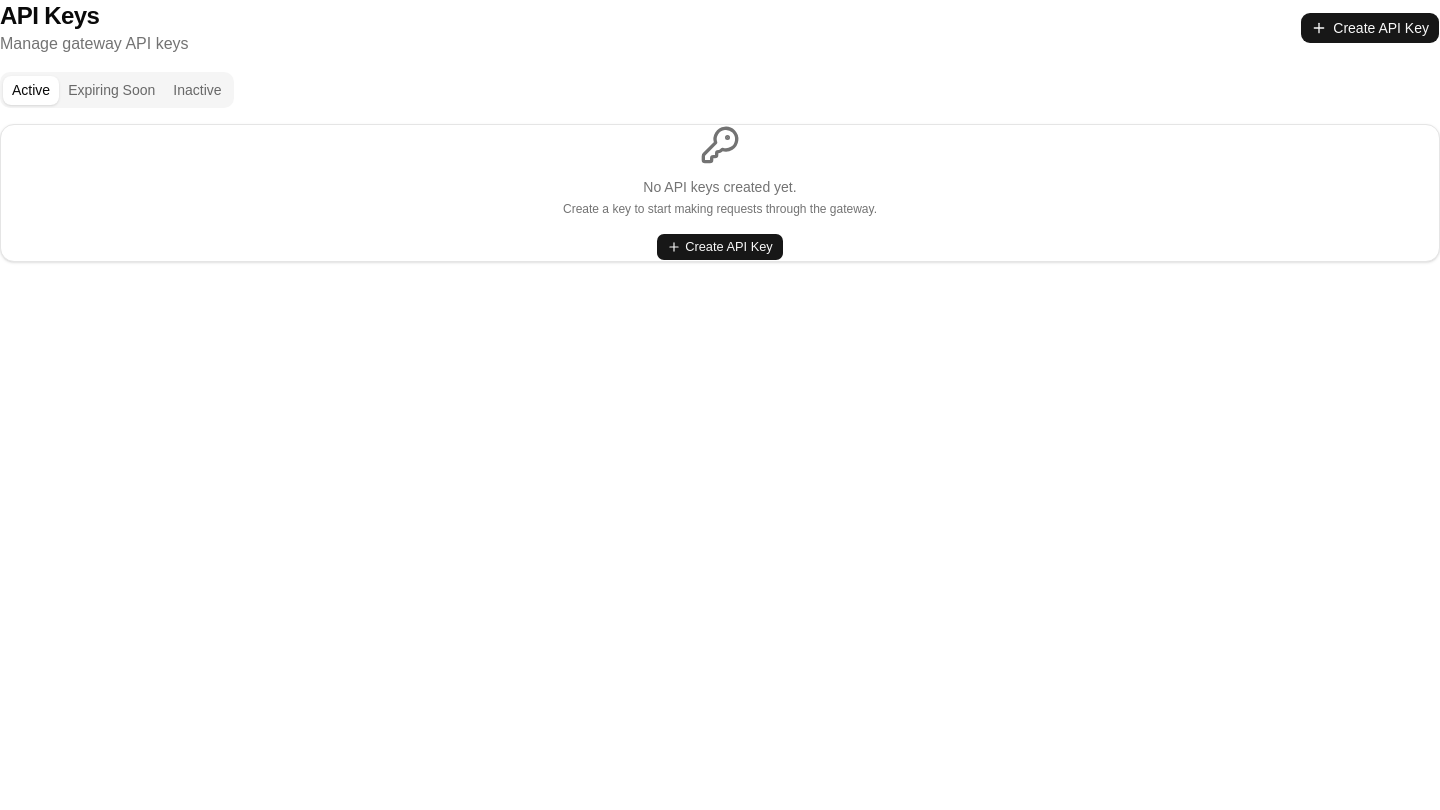
Scenario: ApiKeysPage › names why a key cannot be added to Lite when its owner may not use the gateway
The width and height of the screenshot is (1440, 810).
Click the button "Create API Key" in the row of "Manage gateway API keys" at (1370, 28), box [1300, 12, 1439, 44]
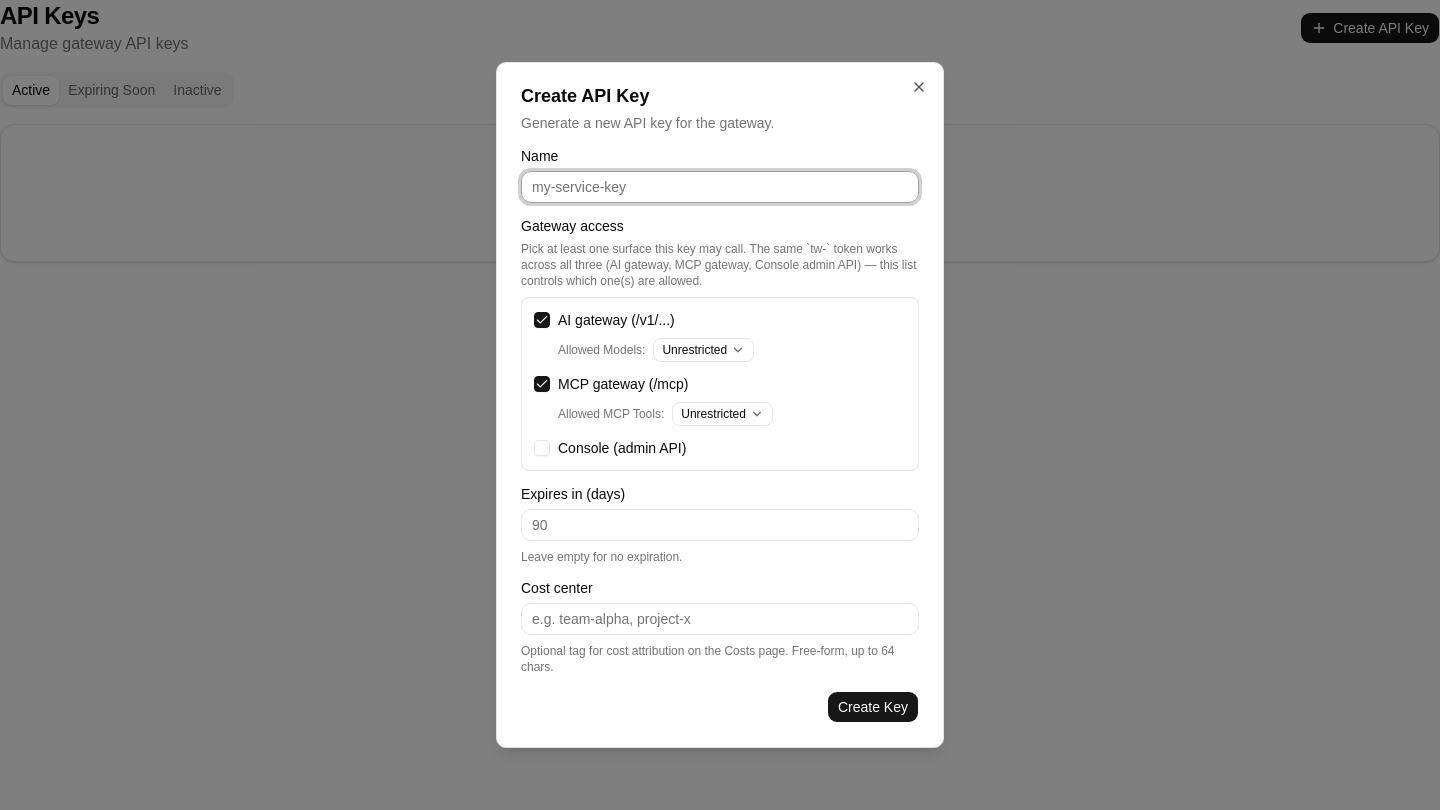
Type "laptop" into the field labelled "Name" at (720, 187), box [521, 171, 919, 203]
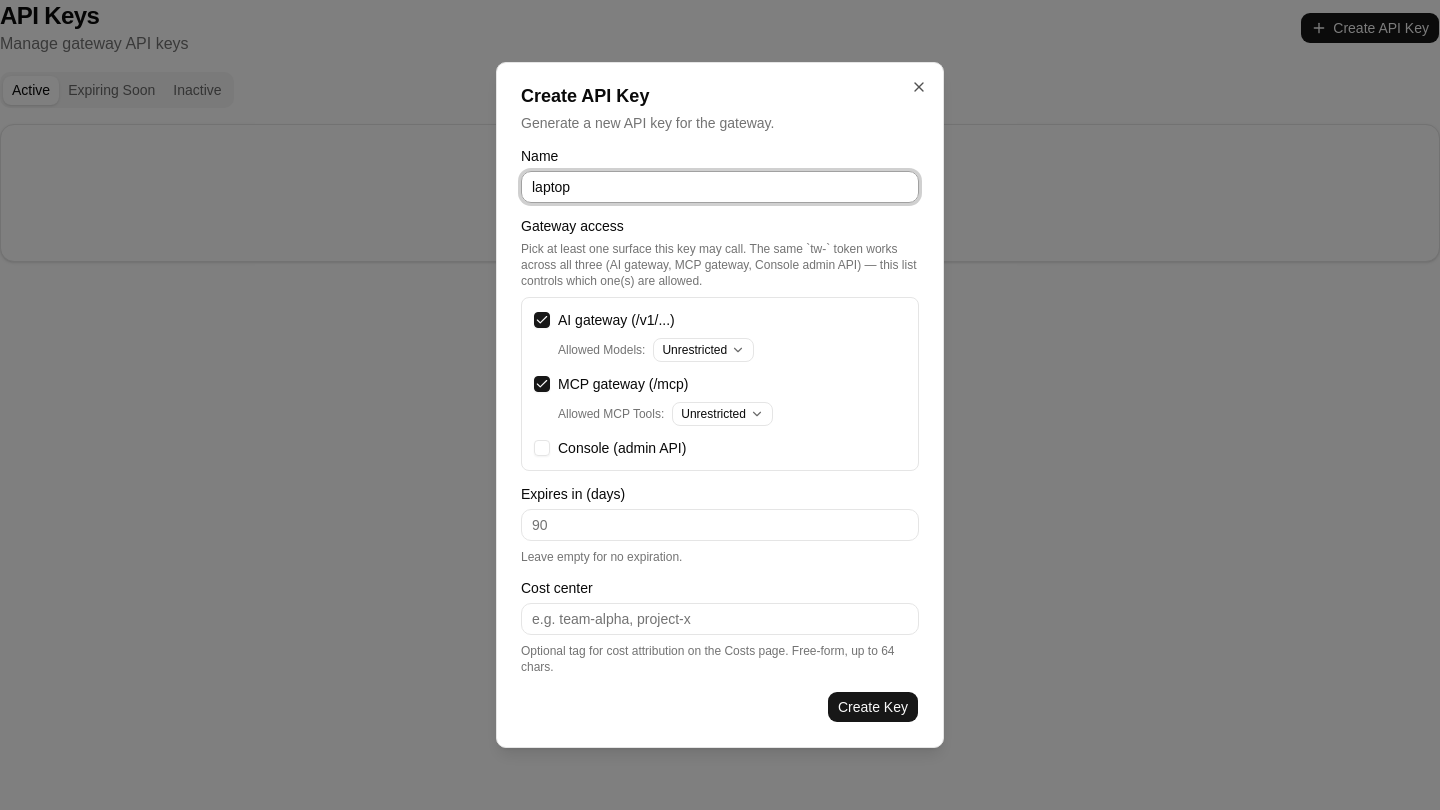
Click the button "Create Key" at (873, 707), box [827, 691, 919, 723]
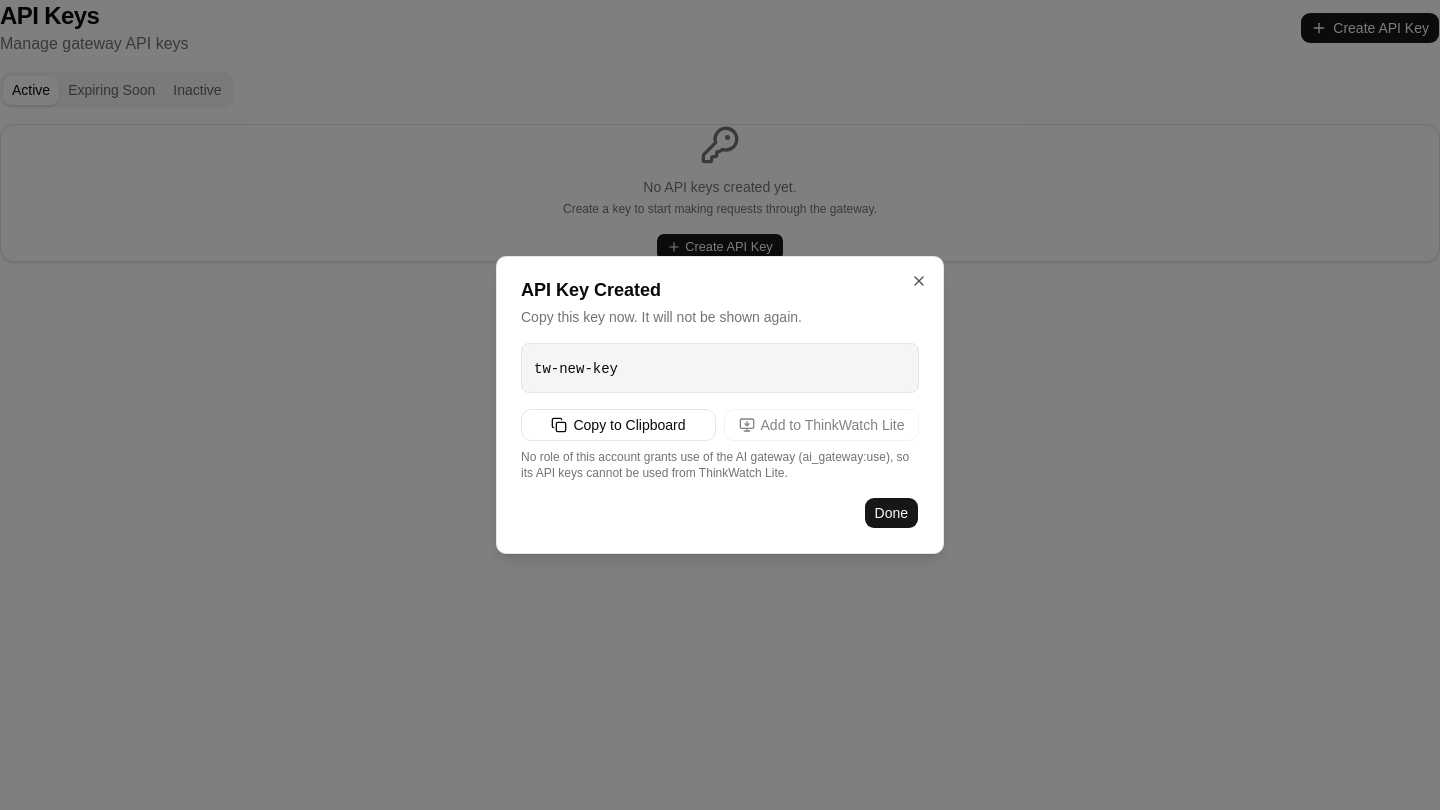
Expected: the button "Add to ThinkWatch Lite" is disabled, [724, 409, 919, 441]
